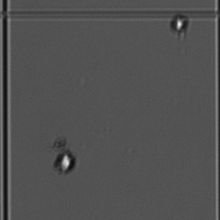Living Cell: (50, 147, 79, 175), (167, 12, 192, 34)
